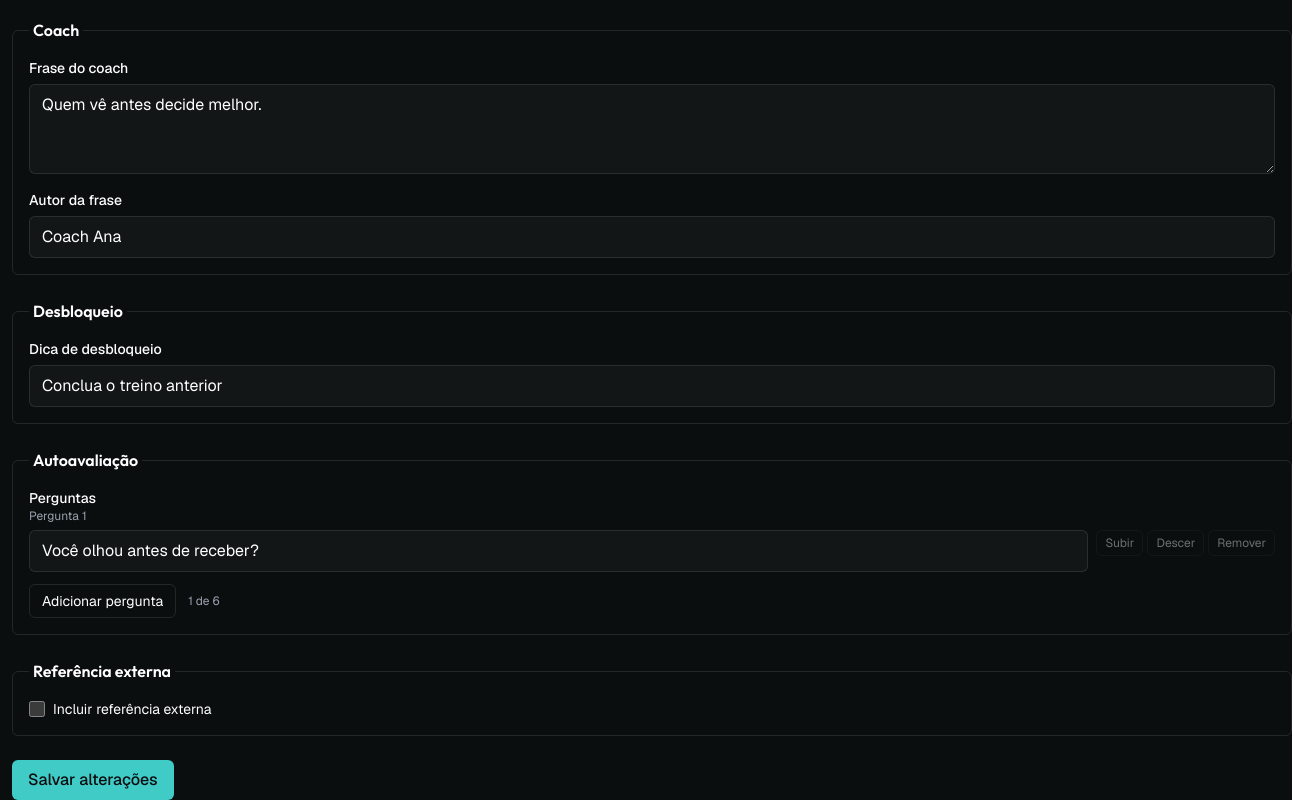
Test: TrainingForm › confirma o salvamento na edição
(page scrolled)
What coordinates should you click on to do the following:
click the button "Salvar alterações"
I would click on:
 (93, 780)
Its box is [12,760,174,799].
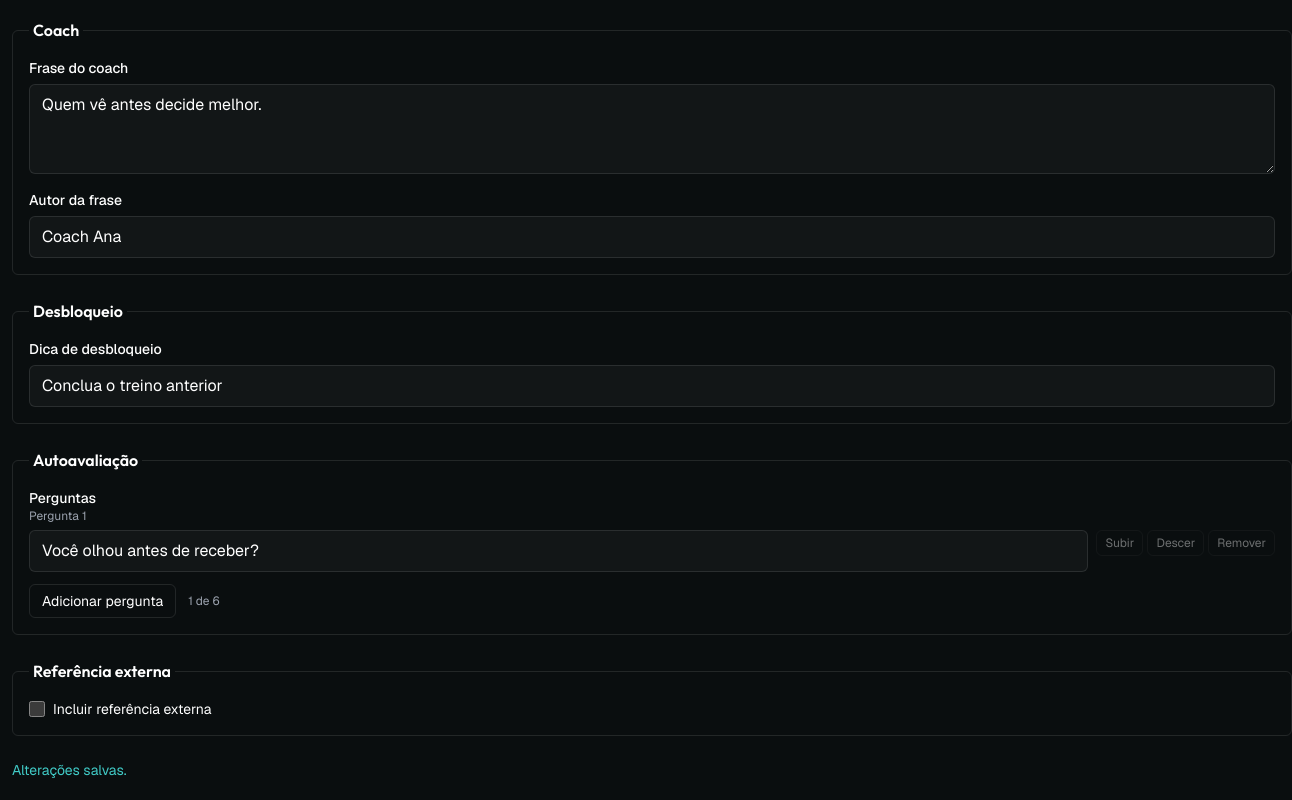
Check: the message reads "Alterações salvas.", box [12,761,127,779]
